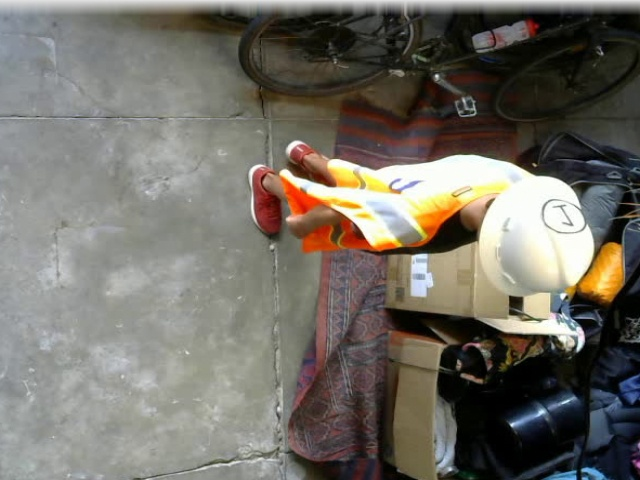one: (542, 199, 585, 233)
